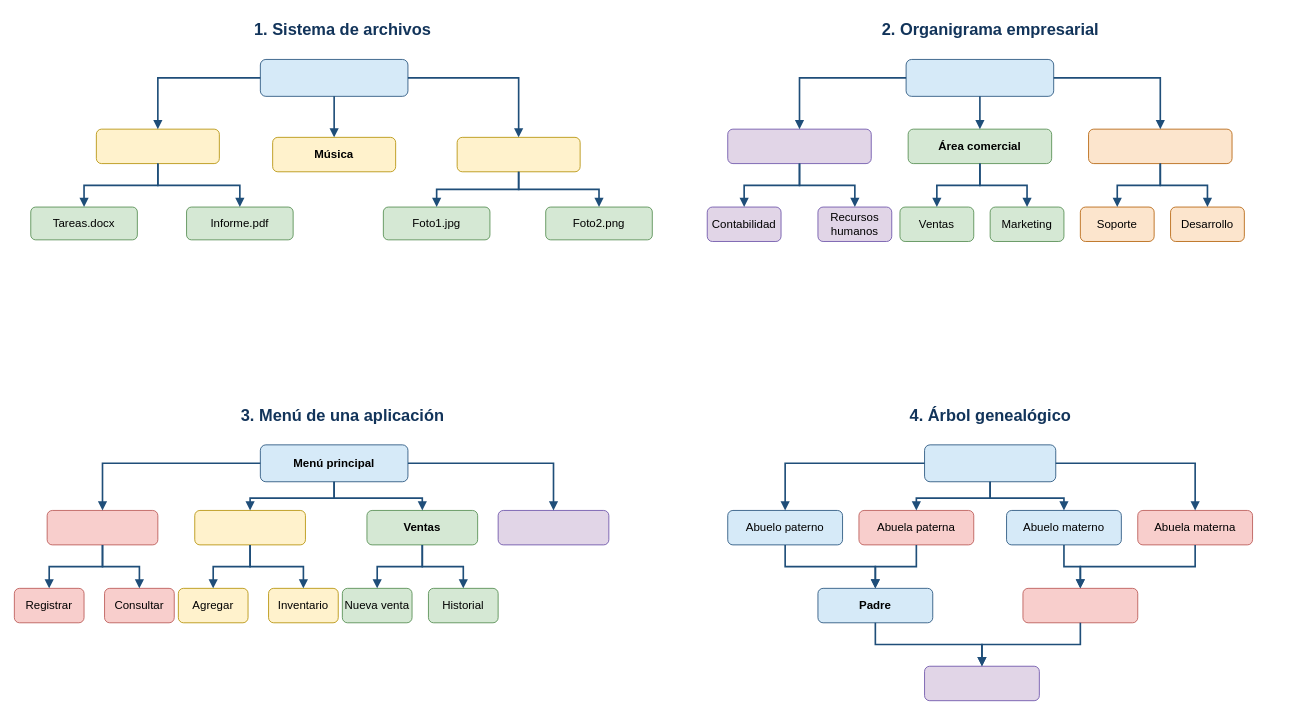
Some shapes in this 1292 by 715 pixel diagram are drawn without their labels. The box of each missing label's shape, as (x1, y1, x2, y2) in pixels:
Abuelos: (924, 444, 1056, 482)
Computador: (260, 59, 408, 96)
Configuración: (497, 510, 609, 545)
Documentos: (96, 128, 219, 164)
Gerente general: (905, 59, 1054, 96)
Hijo/a: (924, 665, 1039, 701)
Imágenes: (456, 137, 580, 172)
Madre: (1022, 588, 1138, 623)
Productos: (194, 510, 305, 545)
Usuarios: (46, 510, 158, 545)
Área administrativa: (727, 128, 871, 164)
Área técnica: (1088, 128, 1232, 164)
